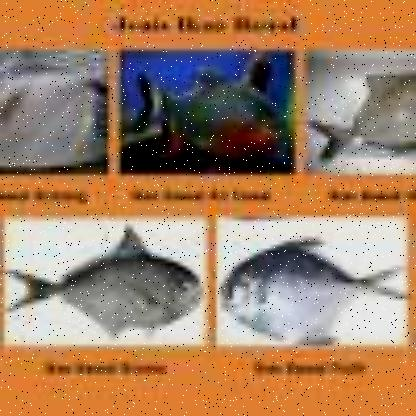ikan-pacu: (132, 70, 291, 164)
